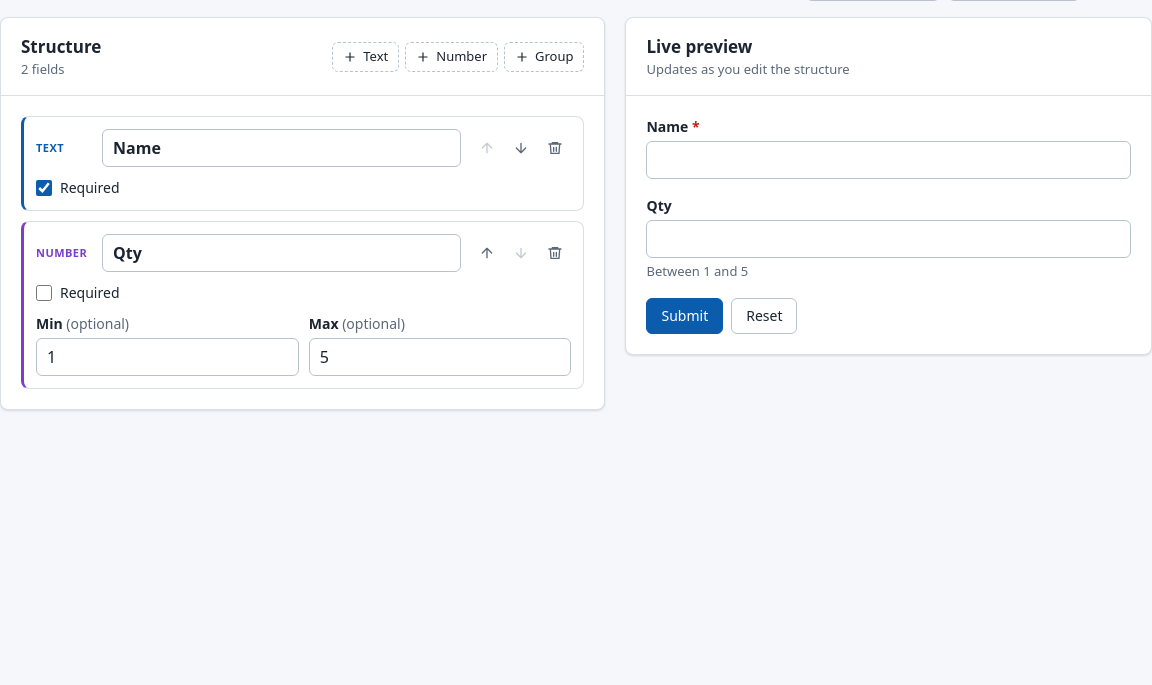
ConfigurableFormBuilder › validates required fields and invalid numbers in the preview
Click the button "Submit".
click(685, 316)  # box 646,298 -> 723,334
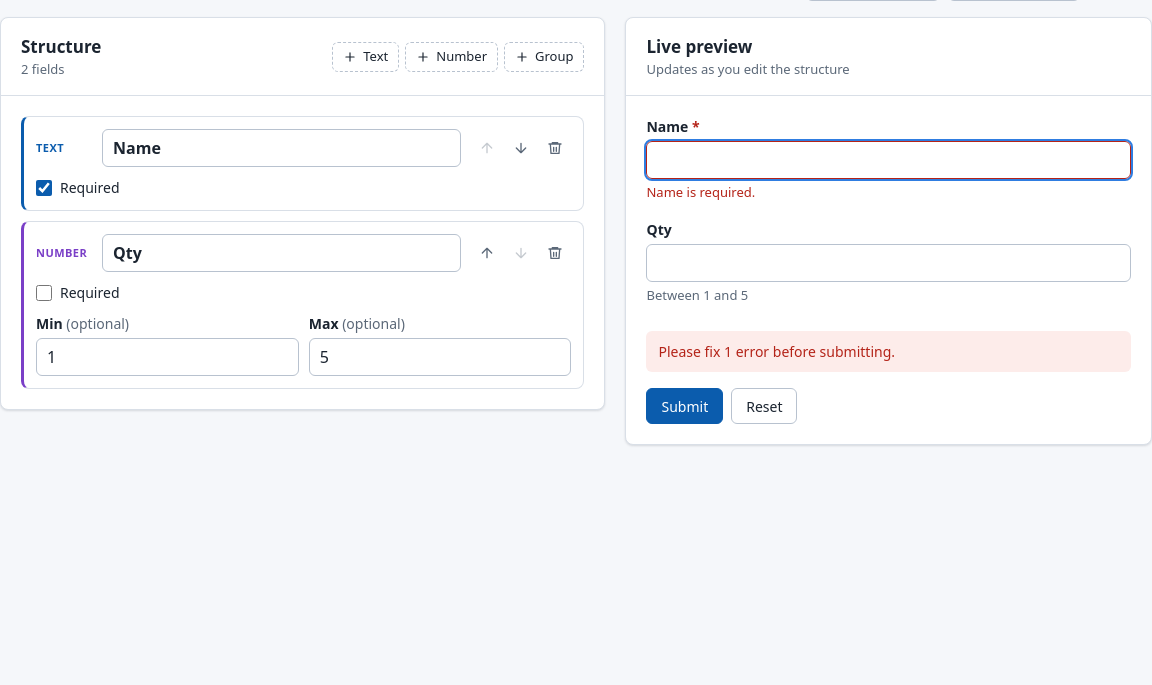
Expected: the text "Name is required." is shown, 646,183 -> 755,201
Type "Ann" into the field labelled "Name *".
click(889, 160); type("Ann")  # box 646,141 -> 1131,179
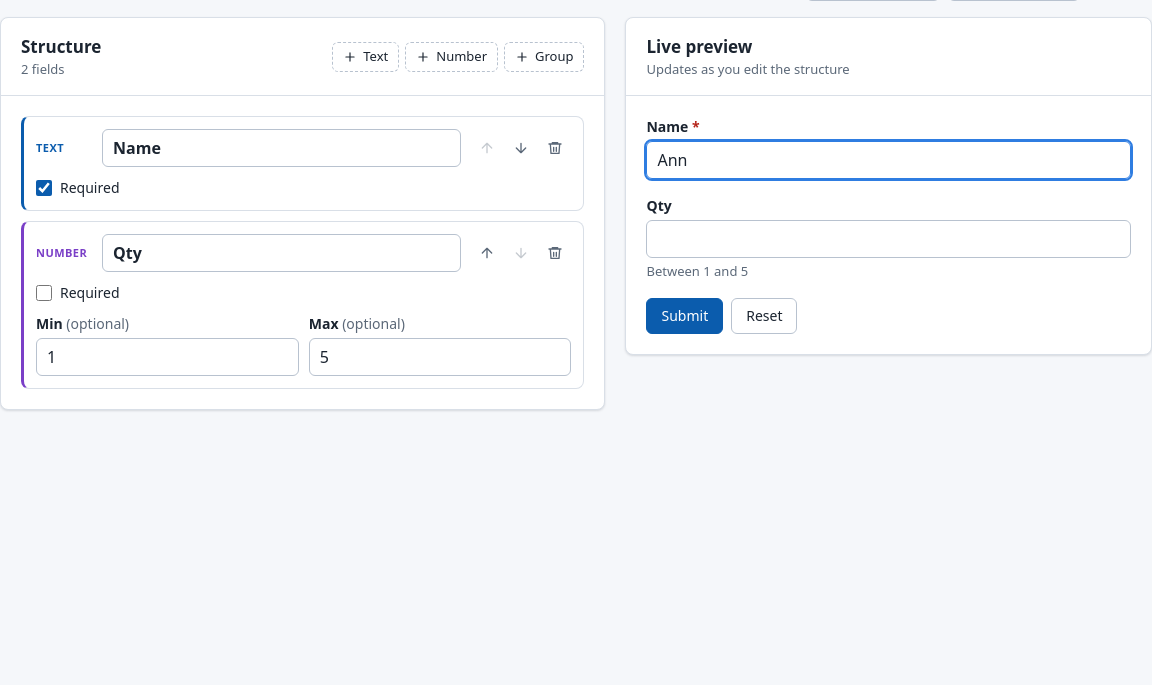
Type "12abc" into the field labelled "Qty".
click(889, 239); type("12abc")  # box 646,220 -> 1131,258
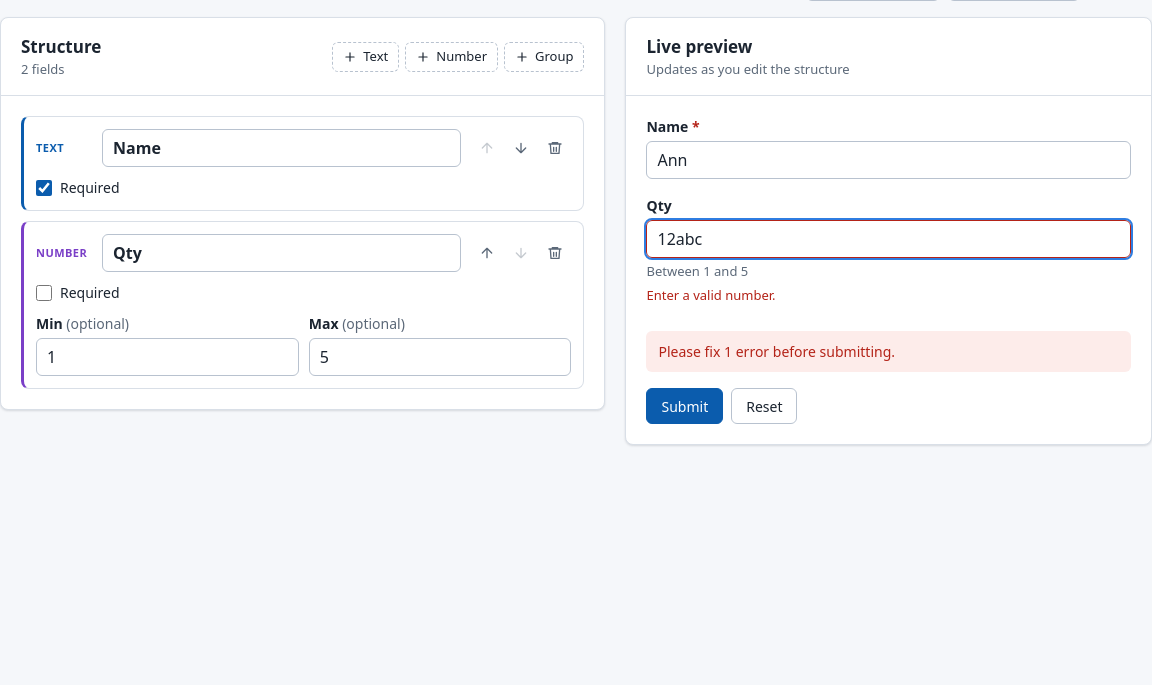
Expected: the text "Enter a valid number." is shown, 646,286 -> 776,304
Replace the text in the field labelled "Qty" with "9" at (889, 239), box 646,220 -> 1131,258
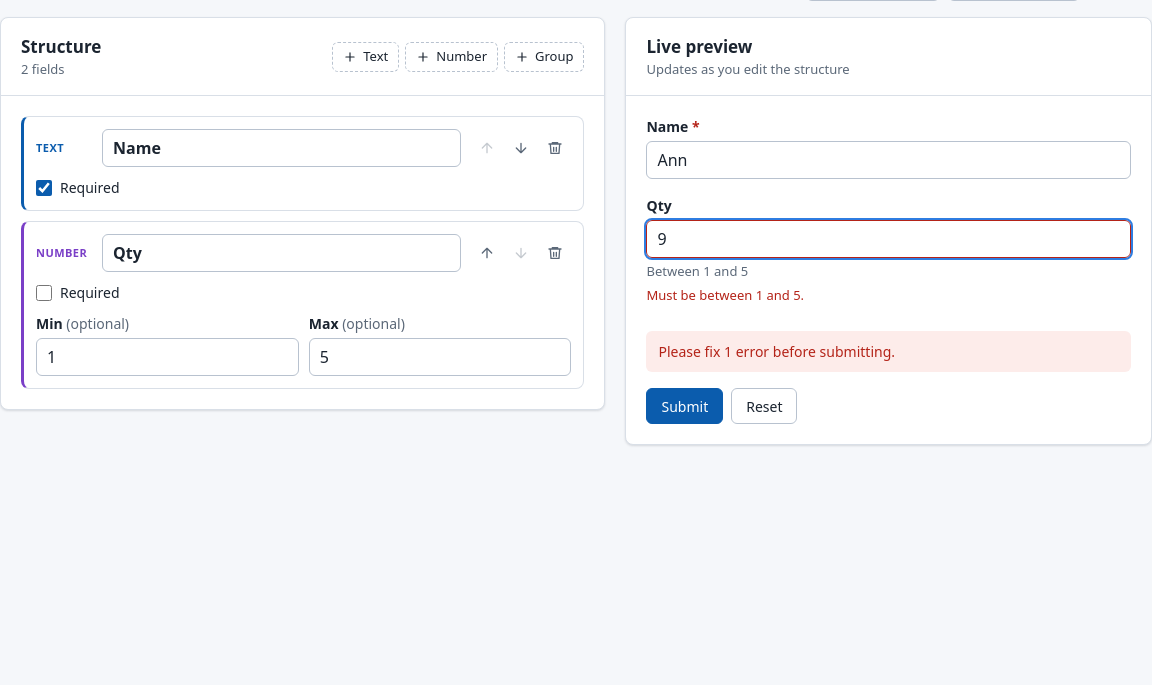
Expected: the text "Must be between 1 and 5." is shown, 646,286 -> 804,304
Replace the text in the field labelled "Qty" with "3" at (889, 239), box 646,220 -> 1131,258
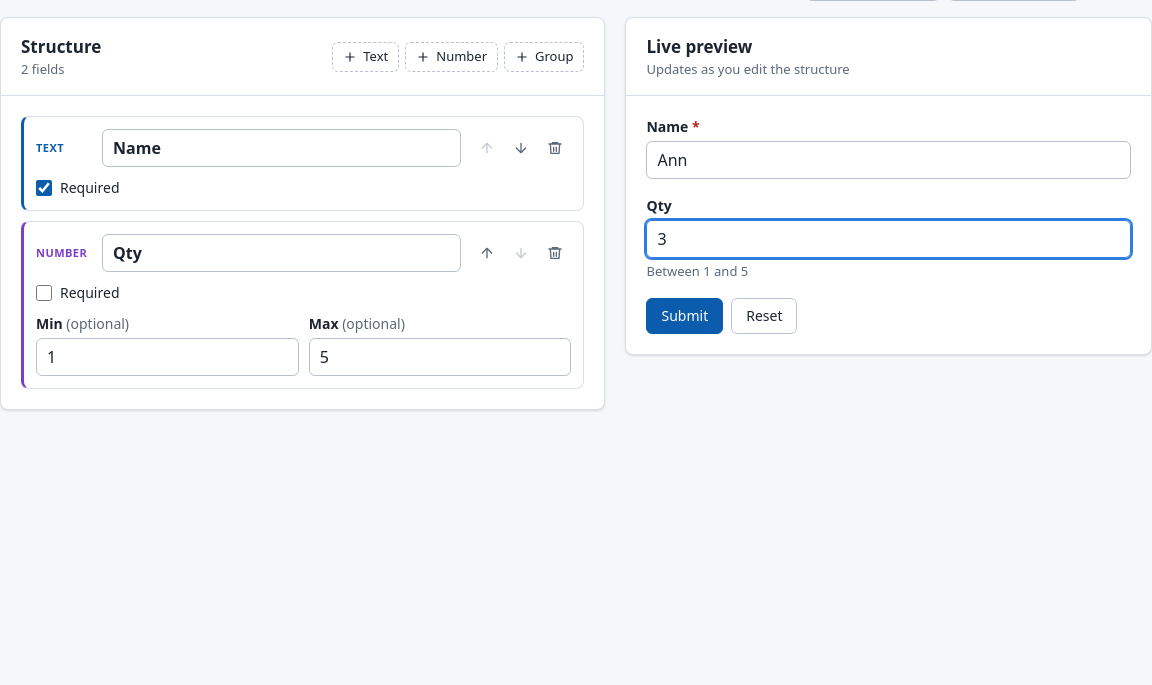
Click the button "Submit".
click(685, 316)  # box 646,298 -> 723,334
(page scrolled)
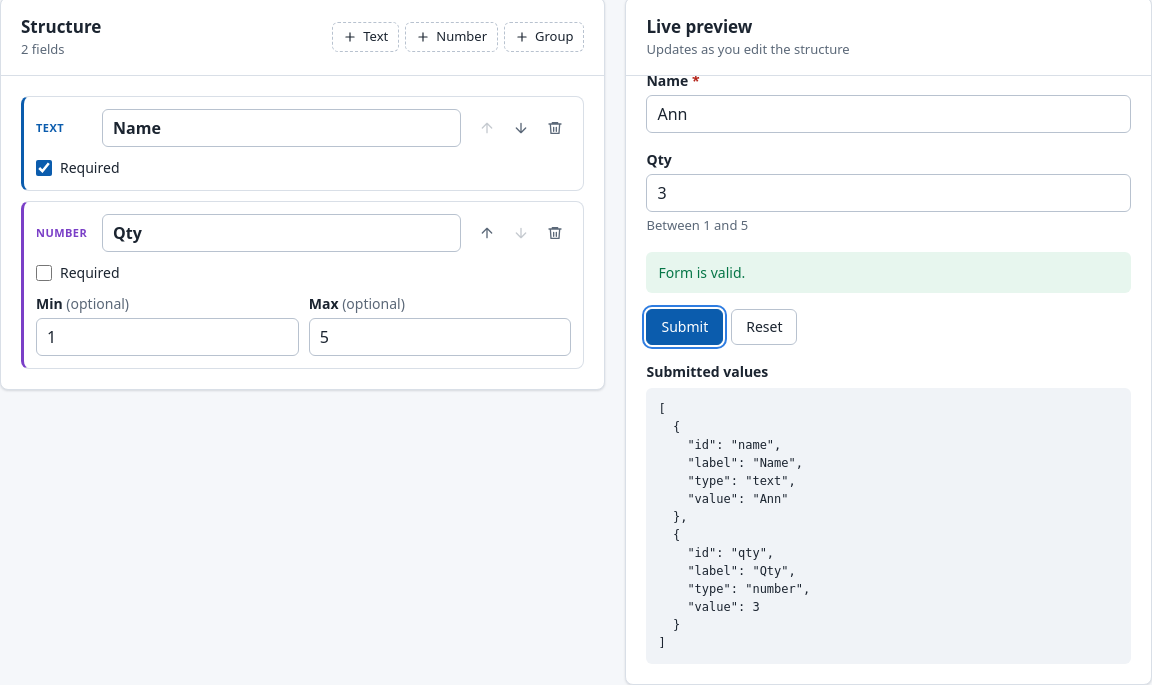
Expected: the text "Form is valid." is shown, 646,252 -> 1131,292
Expected: the text "\"value\": 3" is shown, 658,402 -> 810,650
